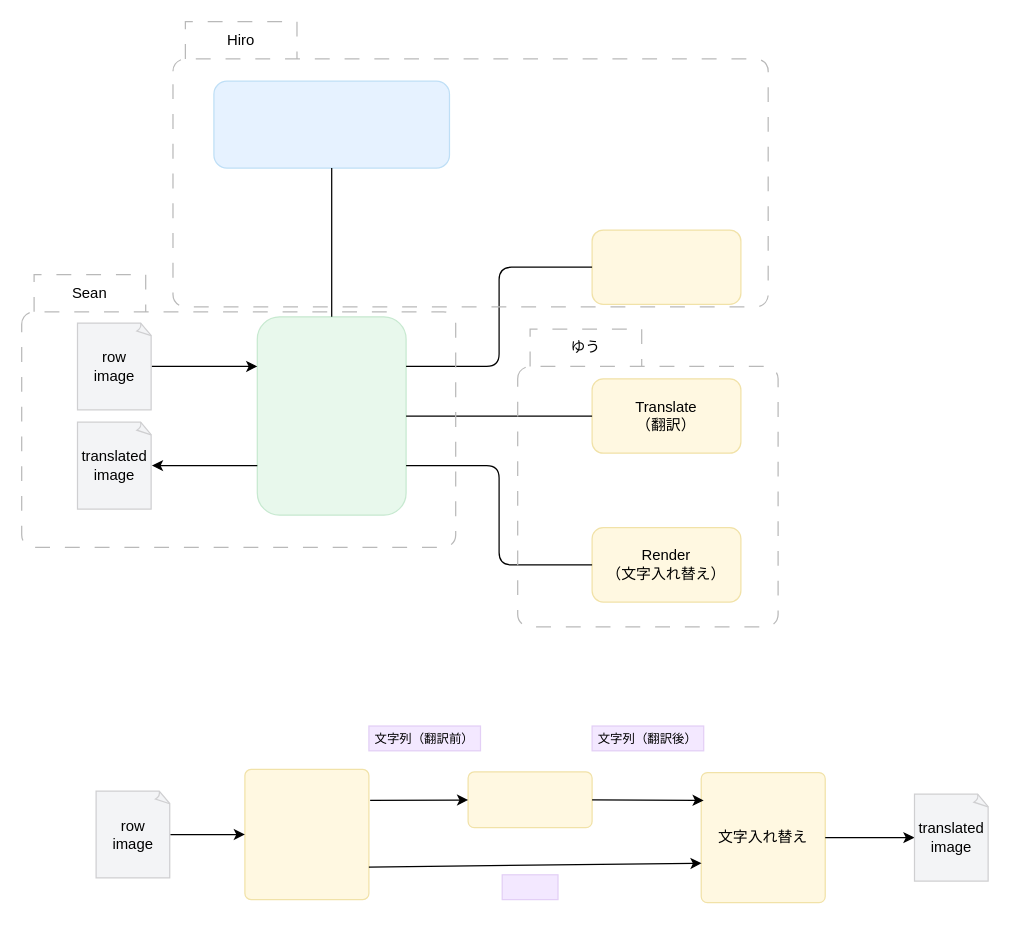
Image size: 1011x925. Some labels were removed from this diagram. The centre of each missing label's shape, as x and y in pixels:
API Server: the point at 331,415
OCR （文字起こし）: the point at 666,266
React + Vite （フロント）: the point at 331,124
座標: the point at 529,887
文字起こし: the point at 306,834
翻訳: the point at 529,799
